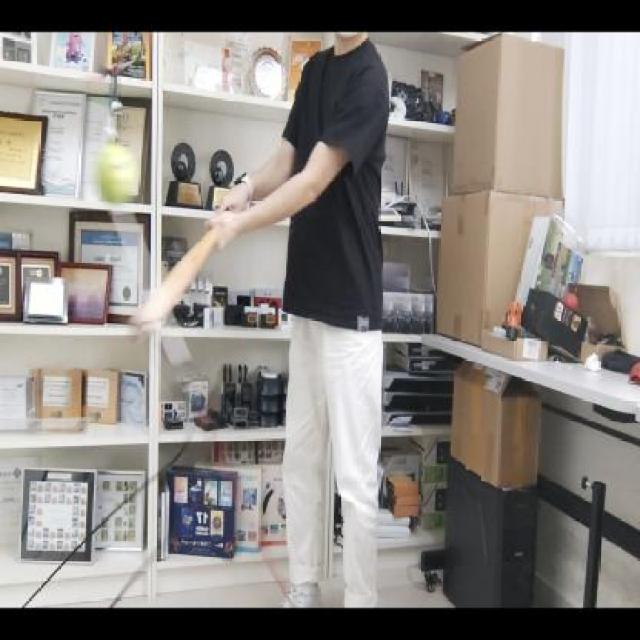baseball: (96, 143, 136, 202)
